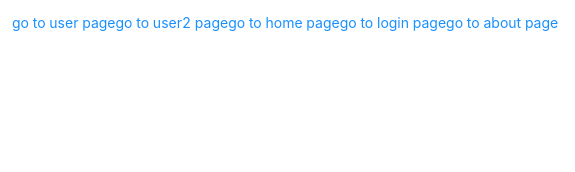
Test: AuthRouter, PrivateRoute and PublicRoute › should be able to go private route if user is logged in
This screenshot has width=575, height=172.
Click the link "go to user page": (64, 22) [12,14,116,31]
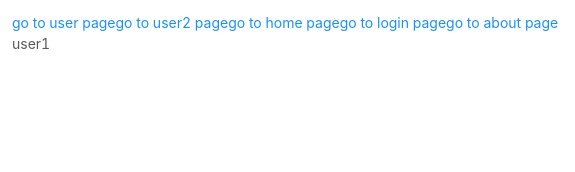
Check: the text "user1" is shown, box [12,35,50,52]
